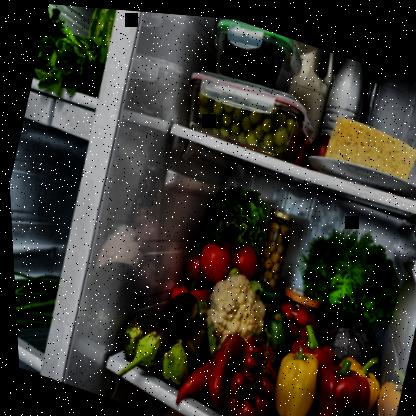blueberries: (217, 37, 276, 80)
cauliflower: (200, 265, 267, 337)
cheese: (324, 108, 415, 177)
eggplant: (119, 278, 197, 389), (157, 318, 206, 383)
grapes: (193, 87, 294, 152)
lettuce: (207, 182, 264, 244)
olives: (250, 216, 290, 285)
parsley: (357, 256, 399, 323)
red_bell_pepper: (198, 326, 245, 407), (170, 351, 209, 402)
tomato: (309, 354, 371, 410), (192, 235, 231, 281), (225, 236, 258, 275), (177, 246, 207, 284), (221, 362, 244, 393), (235, 344, 258, 371), (229, 392, 255, 415), (244, 386, 264, 415), (251, 370, 271, 395)
yellow_bell_pepper: (262, 338, 324, 415)
